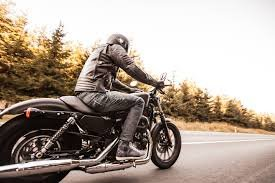motor: (11, 88, 183, 174)
